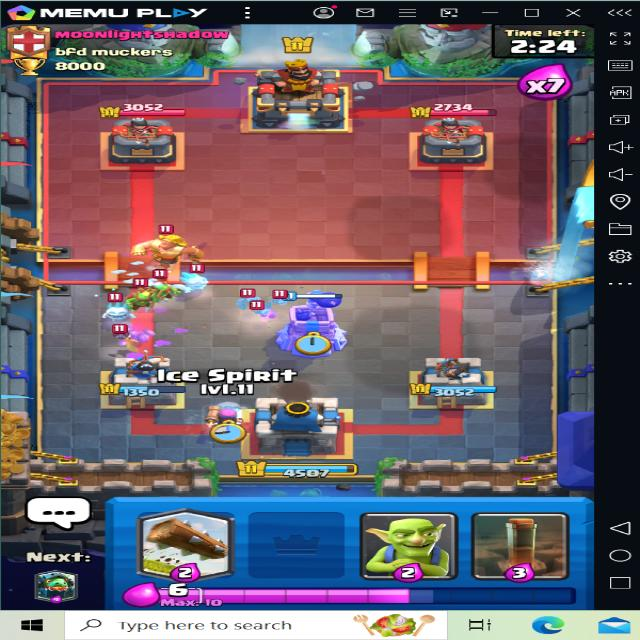Bat: (101, 322, 143, 343)
Goldenknight: (128, 224, 213, 268)
Icespirit: (93, 296, 136, 324)
Speargoblin: (143, 271, 184, 298), (128, 284, 159, 311)
